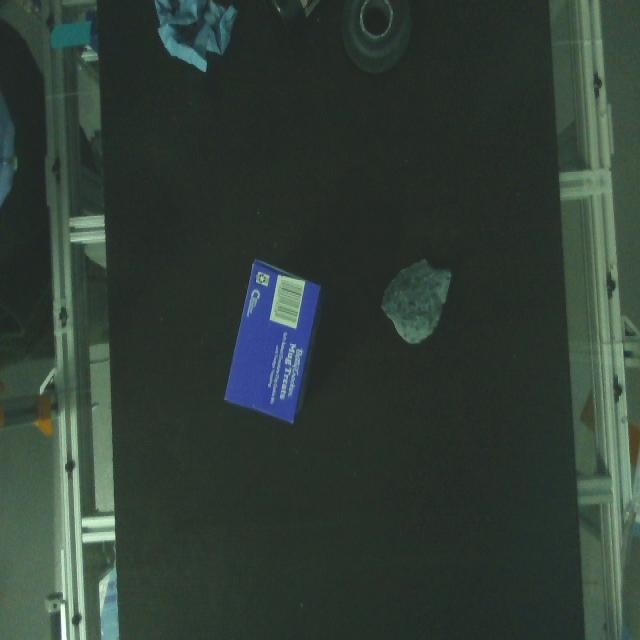non-paper: (379, 251, 457, 348), (336, 0, 422, 79)
paper: (219, 250, 331, 439), (144, 0, 248, 82)
